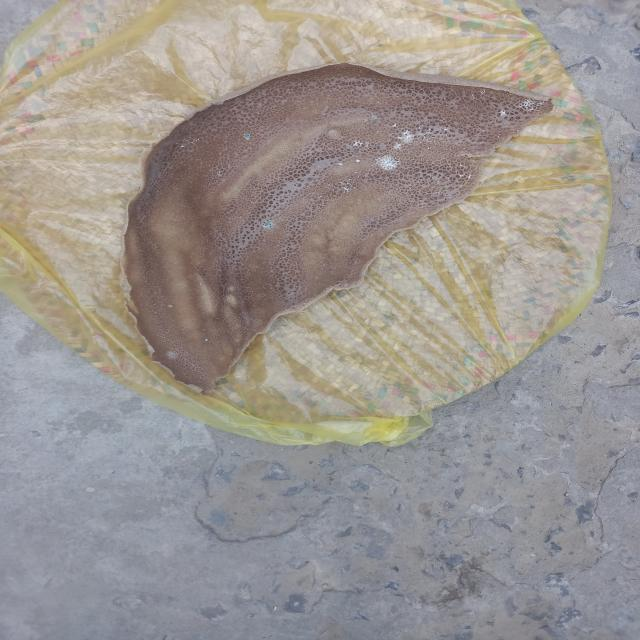injera_mold: (372, 150, 401, 176), (519, 94, 537, 115), (397, 128, 417, 146), (347, 136, 368, 152), (239, 130, 258, 146), (164, 347, 182, 361), (260, 217, 279, 229)
